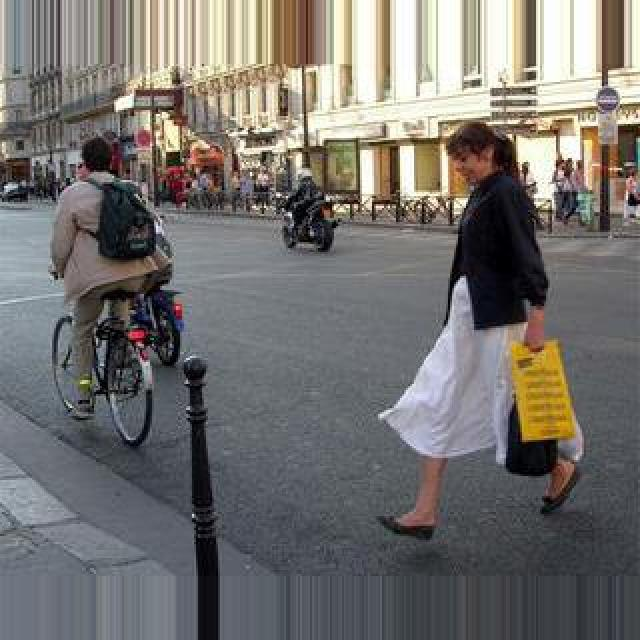Emergency Vehicles-Bike: (132, 282, 186, 366), (280, 200, 338, 254)
MC-Bike: (376, 116, 556, 530), (48, 128, 170, 410), (284, 172, 322, 240)
Person: (52, 294, 160, 448)
